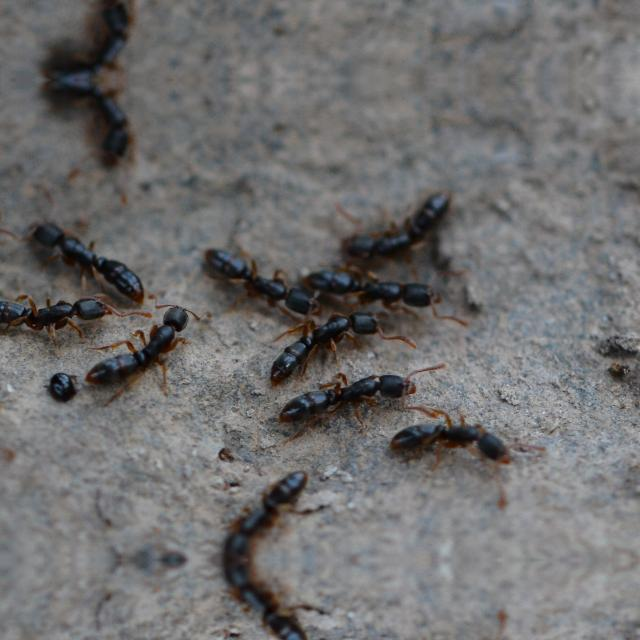Ponera: (24, 205, 158, 303), (186, 462, 314, 558), (380, 394, 524, 478), (340, 164, 474, 252), (196, 228, 320, 318), (98, 296, 198, 402), (274, 364, 431, 431), (185, 558, 312, 640), (305, 254, 457, 316), (243, 309, 411, 363), (42, 78, 138, 165), (42, 0, 138, 78), (0, 281, 122, 337)
